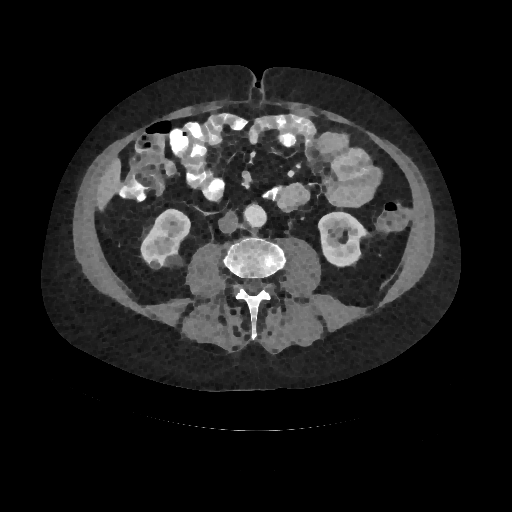Lesion: (163, 253, 189, 271)
